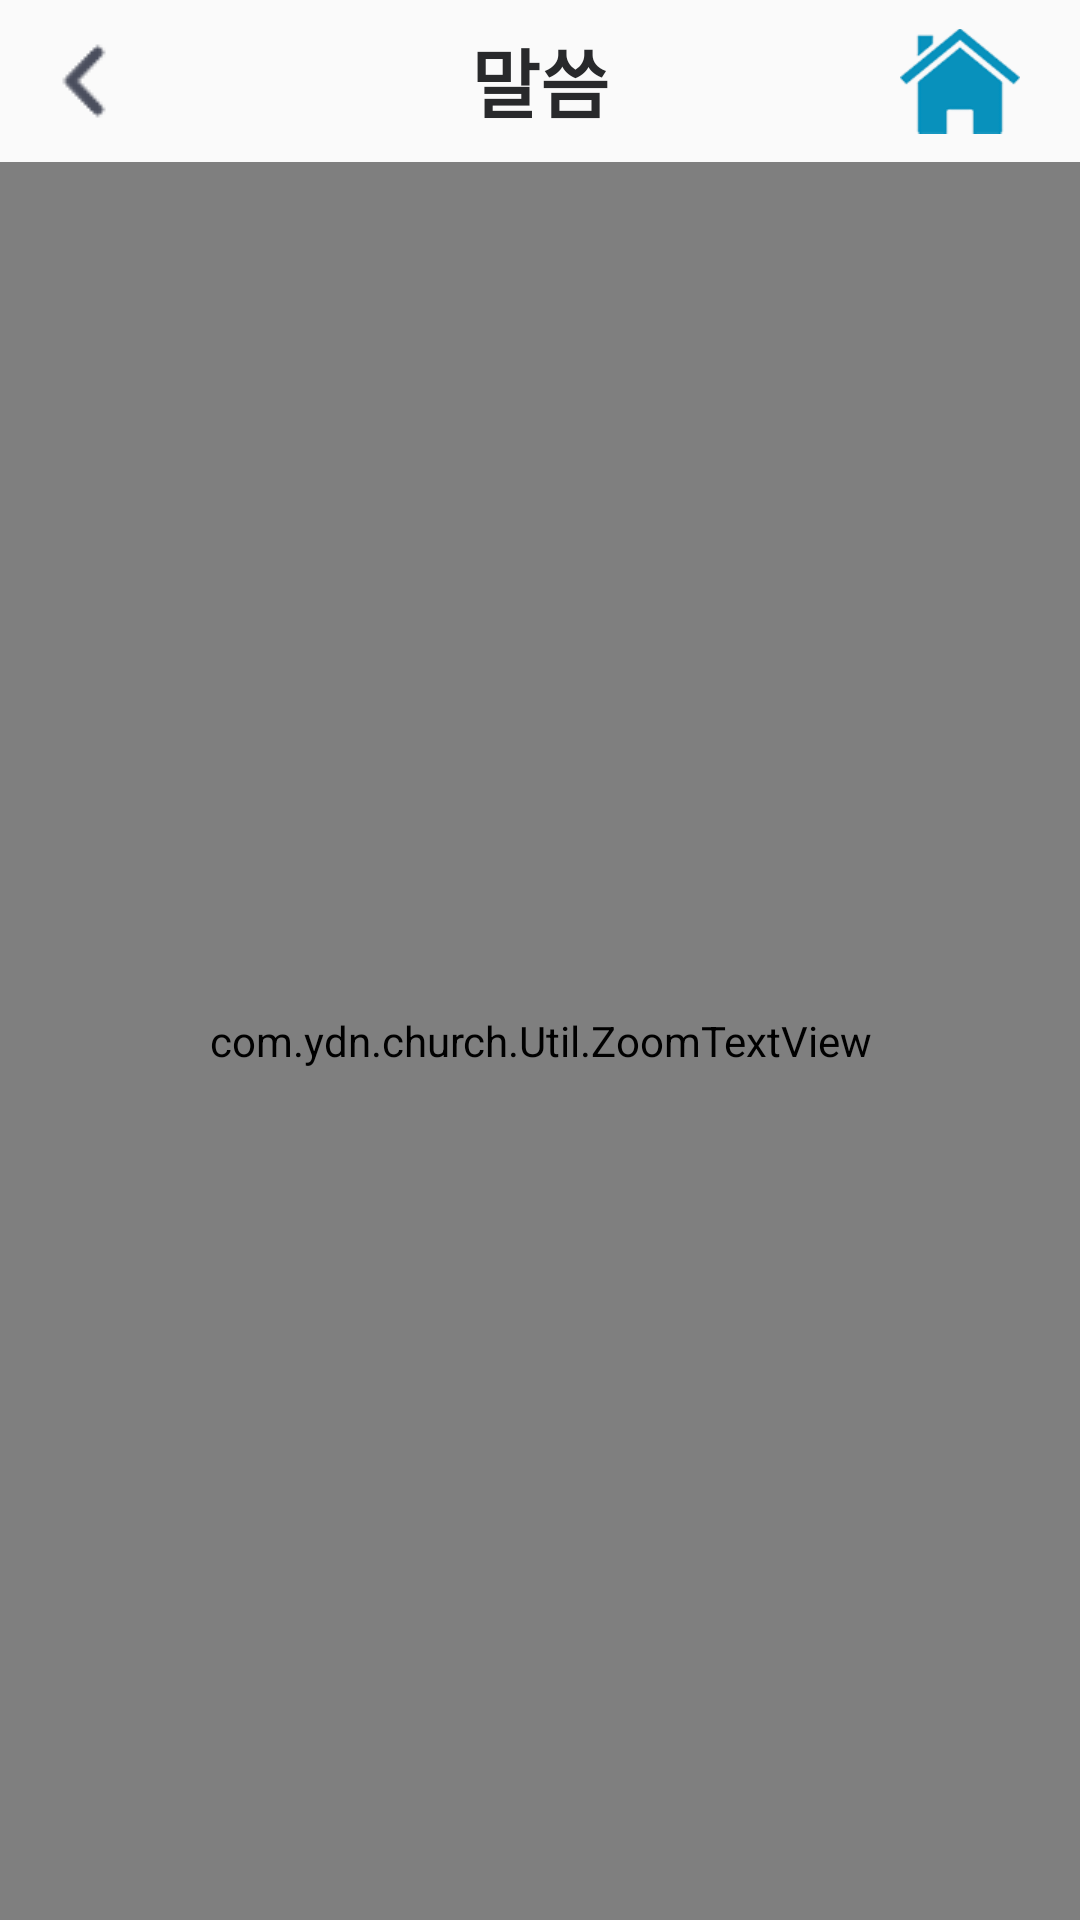

Icon click points for this 1080 × 1920 phone screenshot, format (x=x, y=y):
arrow back: (x=84, y=81)
home: (x=960, y=81)
